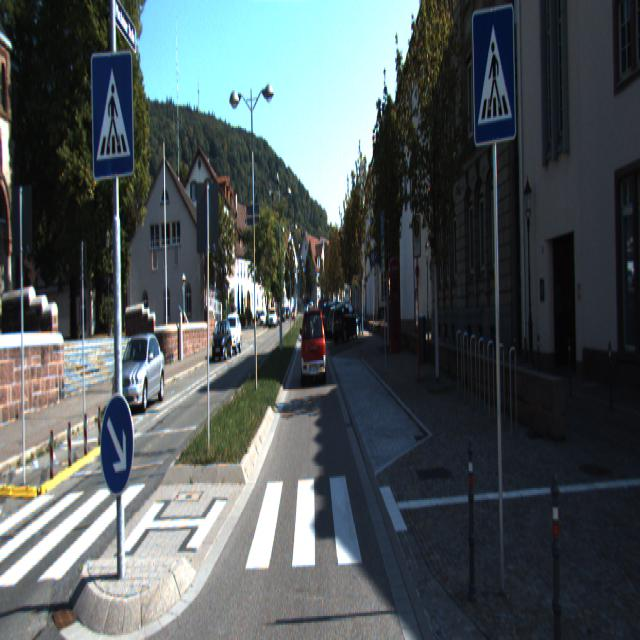Car: (112, 334, 166, 414), (302, 308, 327, 387), (332, 302, 361, 345), (326, 306, 354, 340), (212, 321, 233, 362), (223, 312, 242, 353)
